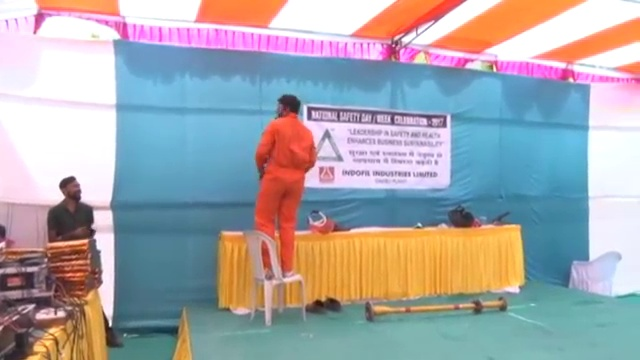helmet_off: (271, 94, 302, 123), (57, 176, 82, 204)
person: (248, 95, 318, 283), (43, 177, 96, 241)
